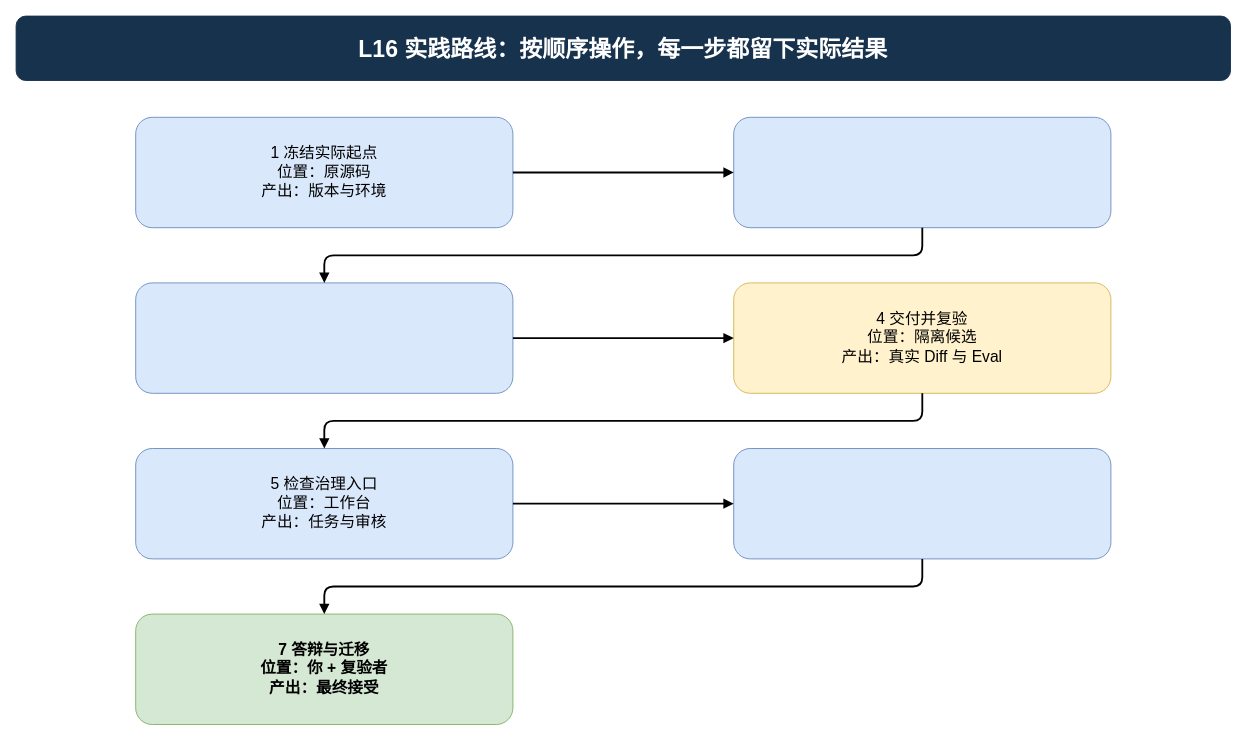
Image size: 1247x741. Some labels were removed from this diagram. Each missing label, with the centre of its shape:
"2 由同伴冷启动 位置：全新环境 产出：首次失败与修订" goes at point (922, 172).
"3 抽取未实现需求 位置：工作台 + 你 产出：受控 Spec" goes at point (324, 337).
"6 恢复、导出与反馈 位置：双系统 产出：交付索引" goes at point (922, 503).
